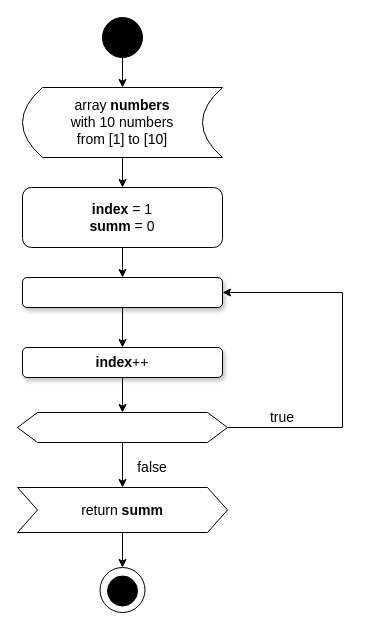
The diagram is 368 pixels wide and 630 high, and some of its shapes have lost their labels. The centre of each missing label's shape, as x and y in pixels:
"index <= 10" belongs at point 122,427.
"summ += numbers[index]" belongs at point 123,293.
